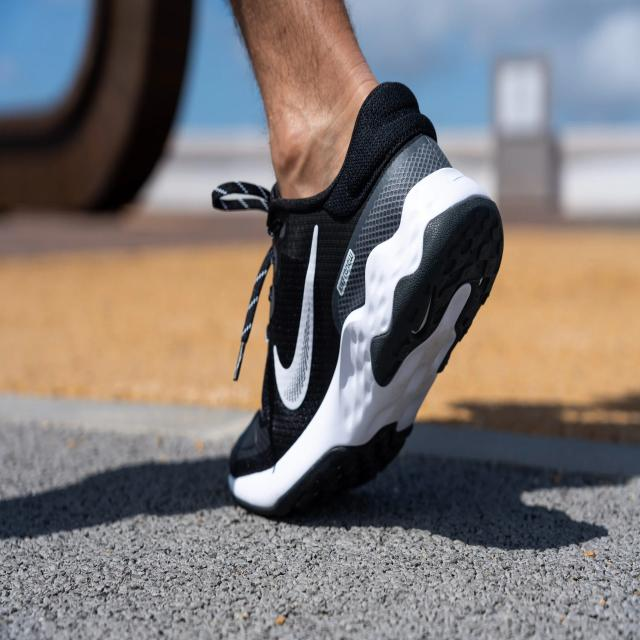nike: (273, 221, 320, 404)
